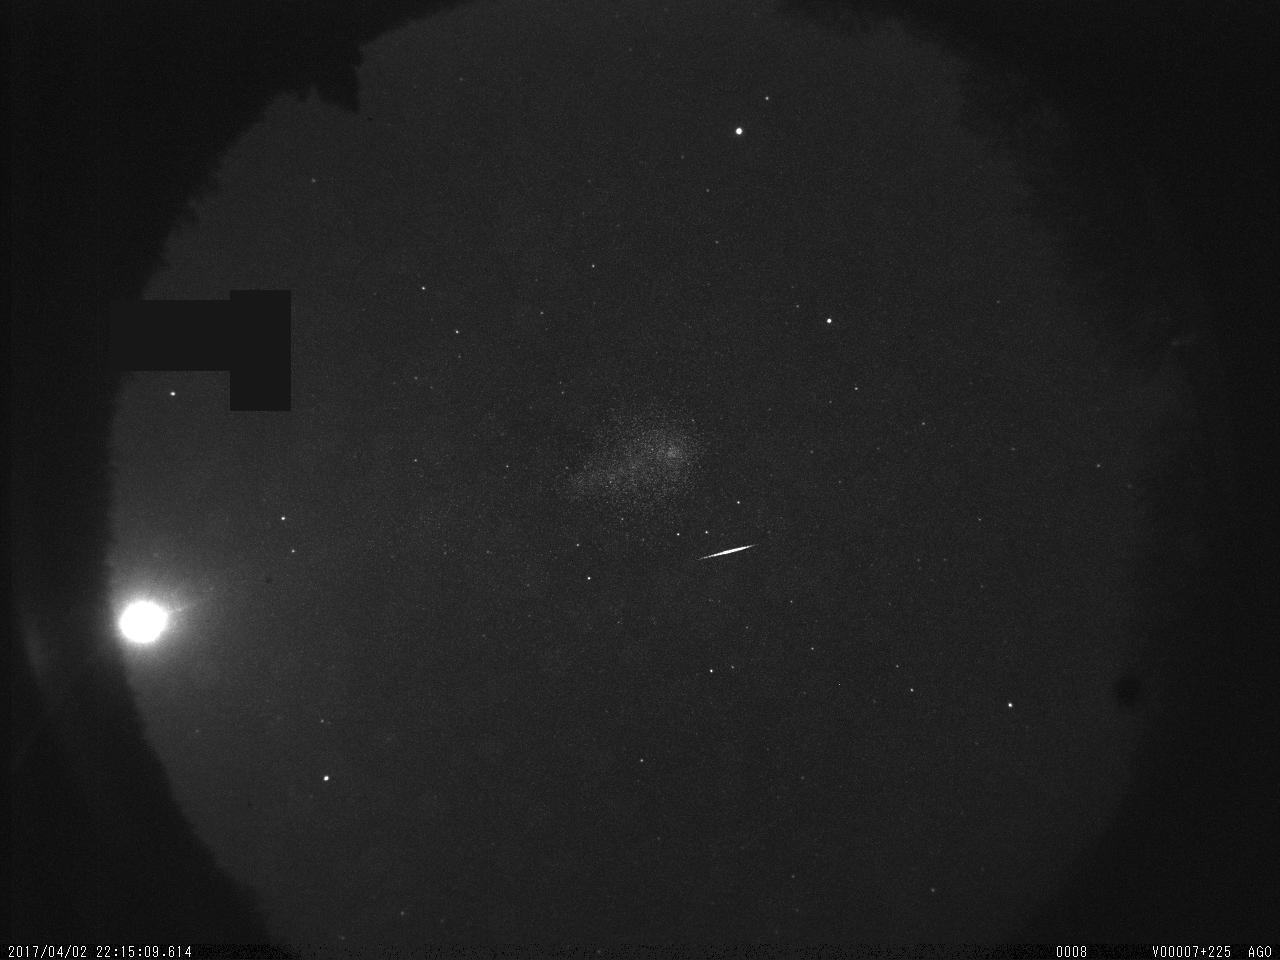meteor: (690, 537, 763, 565)
